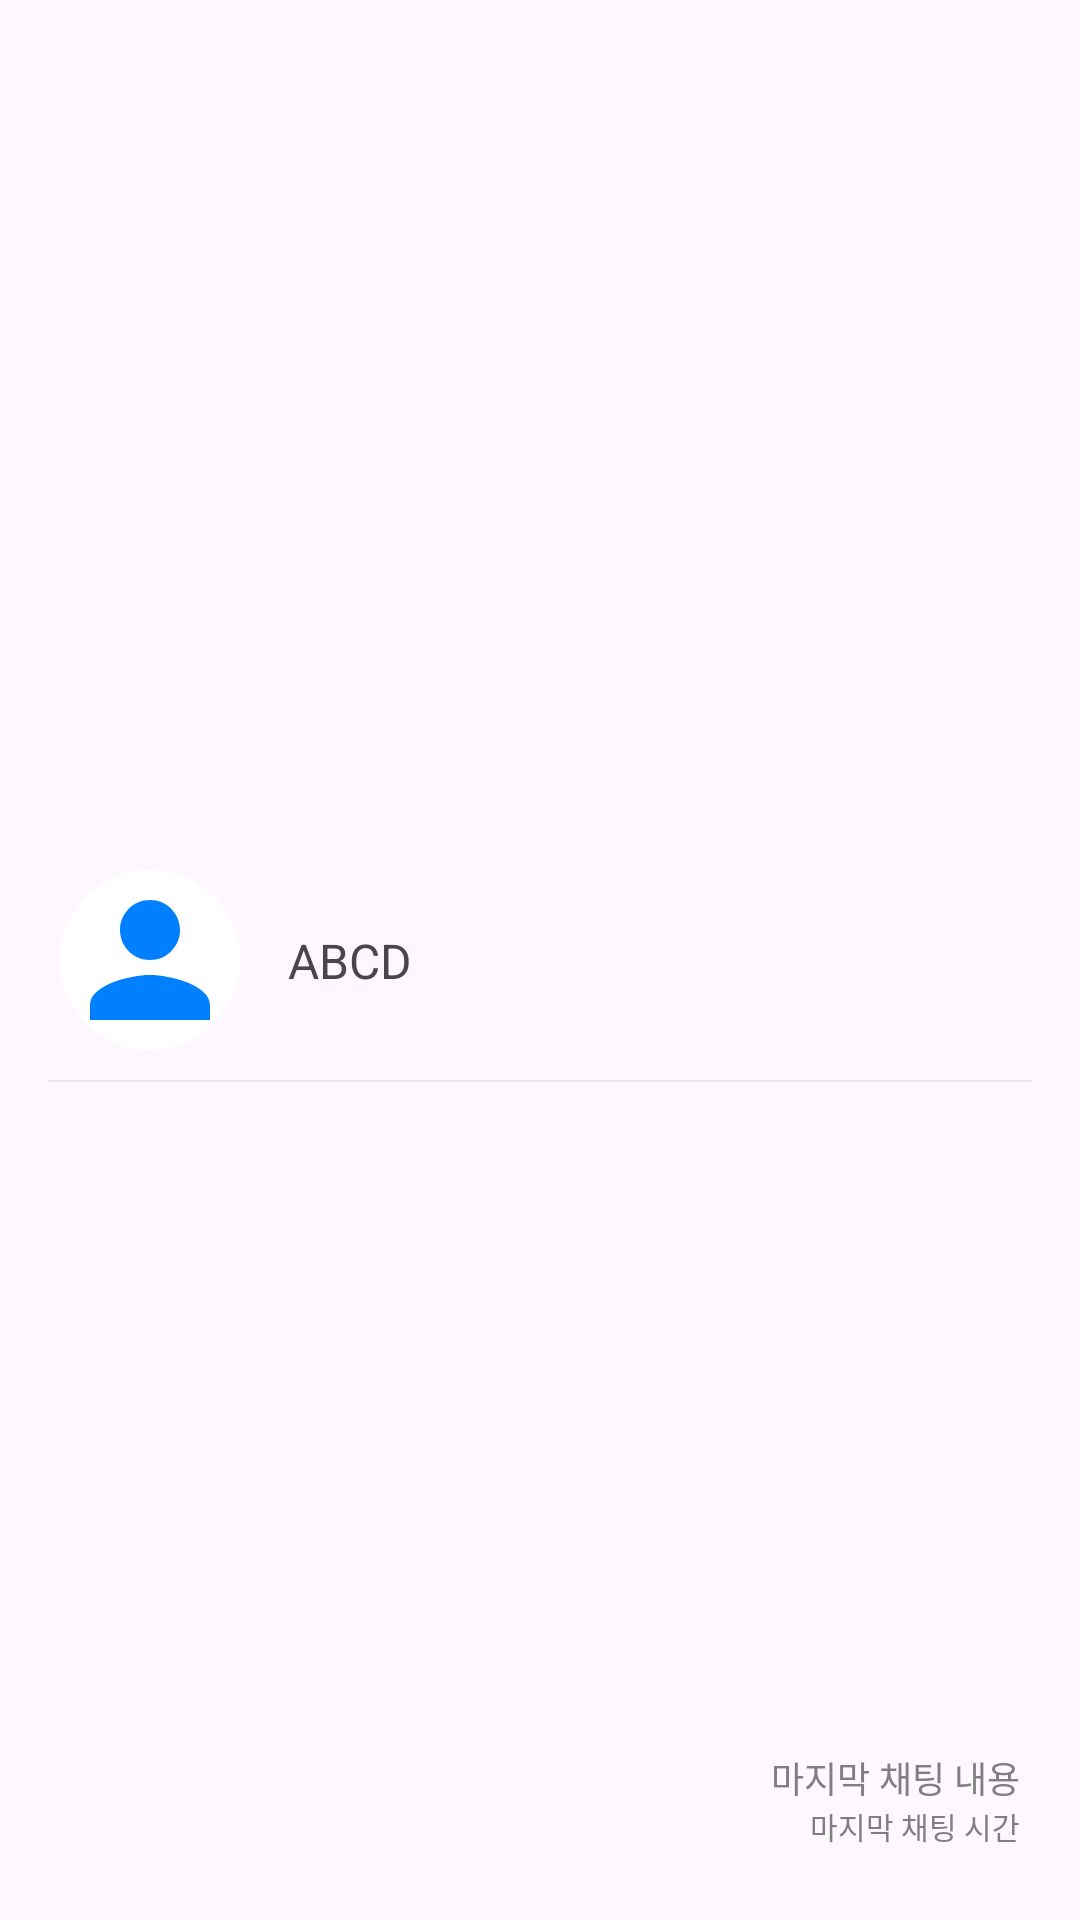

Icons on this 1080w x 1920h Android screen, each with the point to tap as (x=x, y=y):
person: (x=150, y=960)
